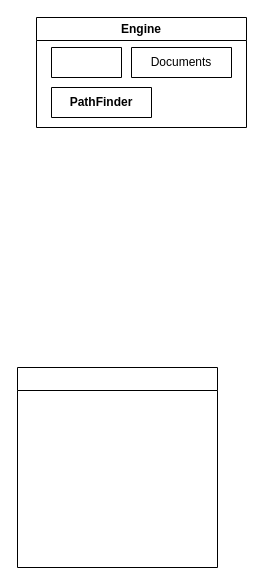
The diagram is 264 pixels wide and 585 high, and some of its shapes have lost their labels. Each missing label, with the centre of its shape:
"Core" belongs at (86,62).
"UI" belongs at (117,467).
